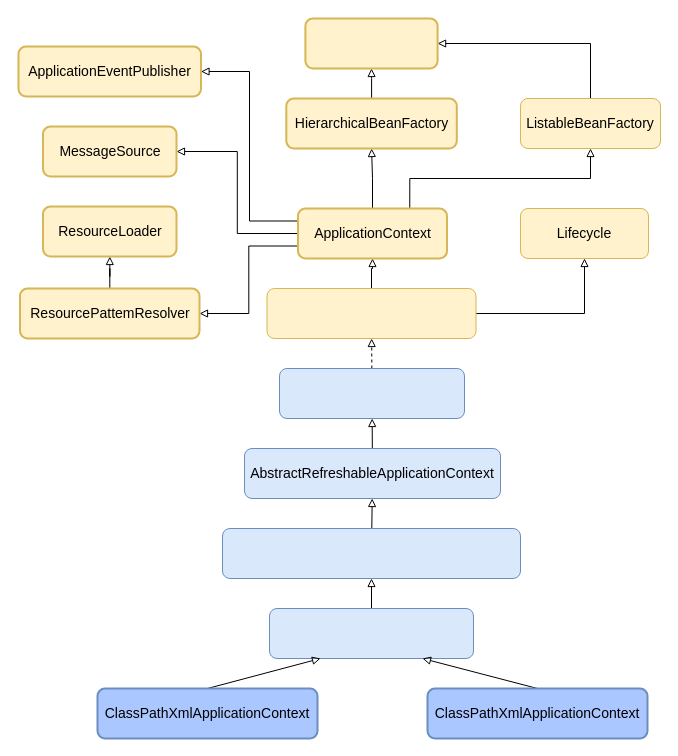
Some shapes in this 678 by 756 pixel diagram are drawn without their labels. The centre of each missing label's shape, as x and y in pixels:
"AbstractApplicationContext" goes at (371,393).
"AbstractRefreshableConfigApplicationContext" goes at (371,553).
"AbstractXmlApplicationContext" goes at (371,633).
"BeanFactory" goes at (371,43).
"ConfigurableApplicationContext" goes at (371,313).
